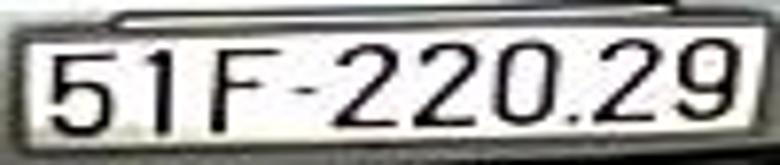-: (290, 87, 319, 99)
.: (563, 113, 579, 126)
0: (496, 41, 557, 125)
1: (146, 47, 173, 137)
2: (333, 45, 399, 130), (594, 39, 660, 123), (413, 42, 478, 127)
5: (50, 53, 114, 138)
9: (675, 37, 736, 121)
F: (210, 47, 279, 135)
